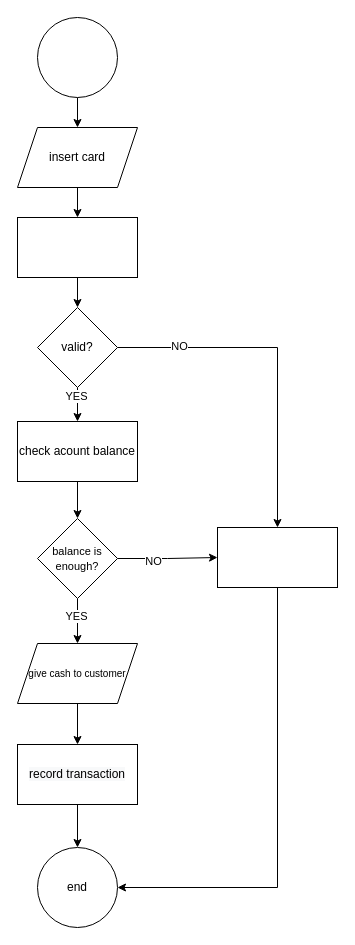
The diagram is 355 pixels wide and 945 high, and some of its shapes have lost their labels. The shapes that lost their labels are listed below. From the top down, each one's centre as x and y in pixels, then its label:
At (77,57): "start".
At (77,247): "make withdrawal request".
At (277,557): "reject request".
